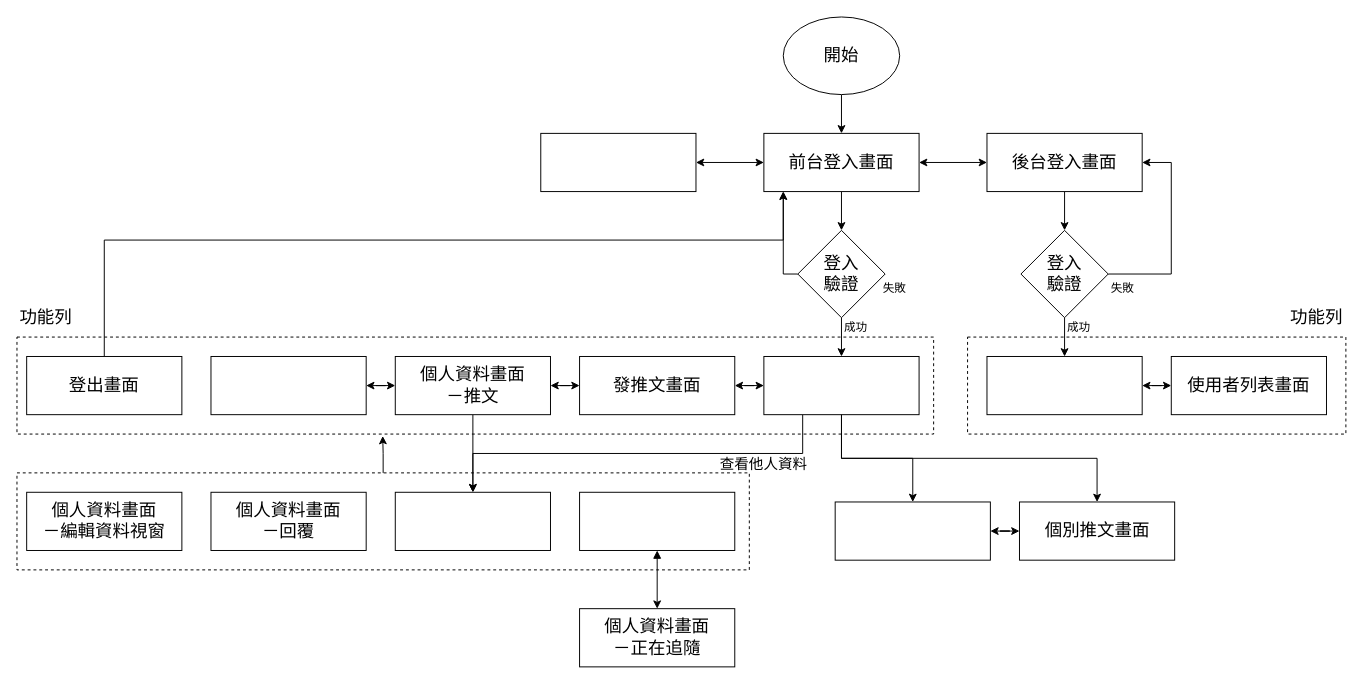
Some shapes in this 1363 by 684 pixel diagram are drawn without their labels. The shapes that lost their labels are listed below. From the top down, each one's centre as x and y in pixels, then its label:
(618,162): 註冊畫面
(288,385): 設定畫面 (編輯個人資料)
(841,385): 主畫面 (瀏覽所有推文)
(1064,385): 推文清單畫面
(472,520): 個人資料畫面 －喜歡的內容
(657,520): 個人資料畫面 －追蹤者
(912,530): 發推文視窗/ 發推文回覆視窗
